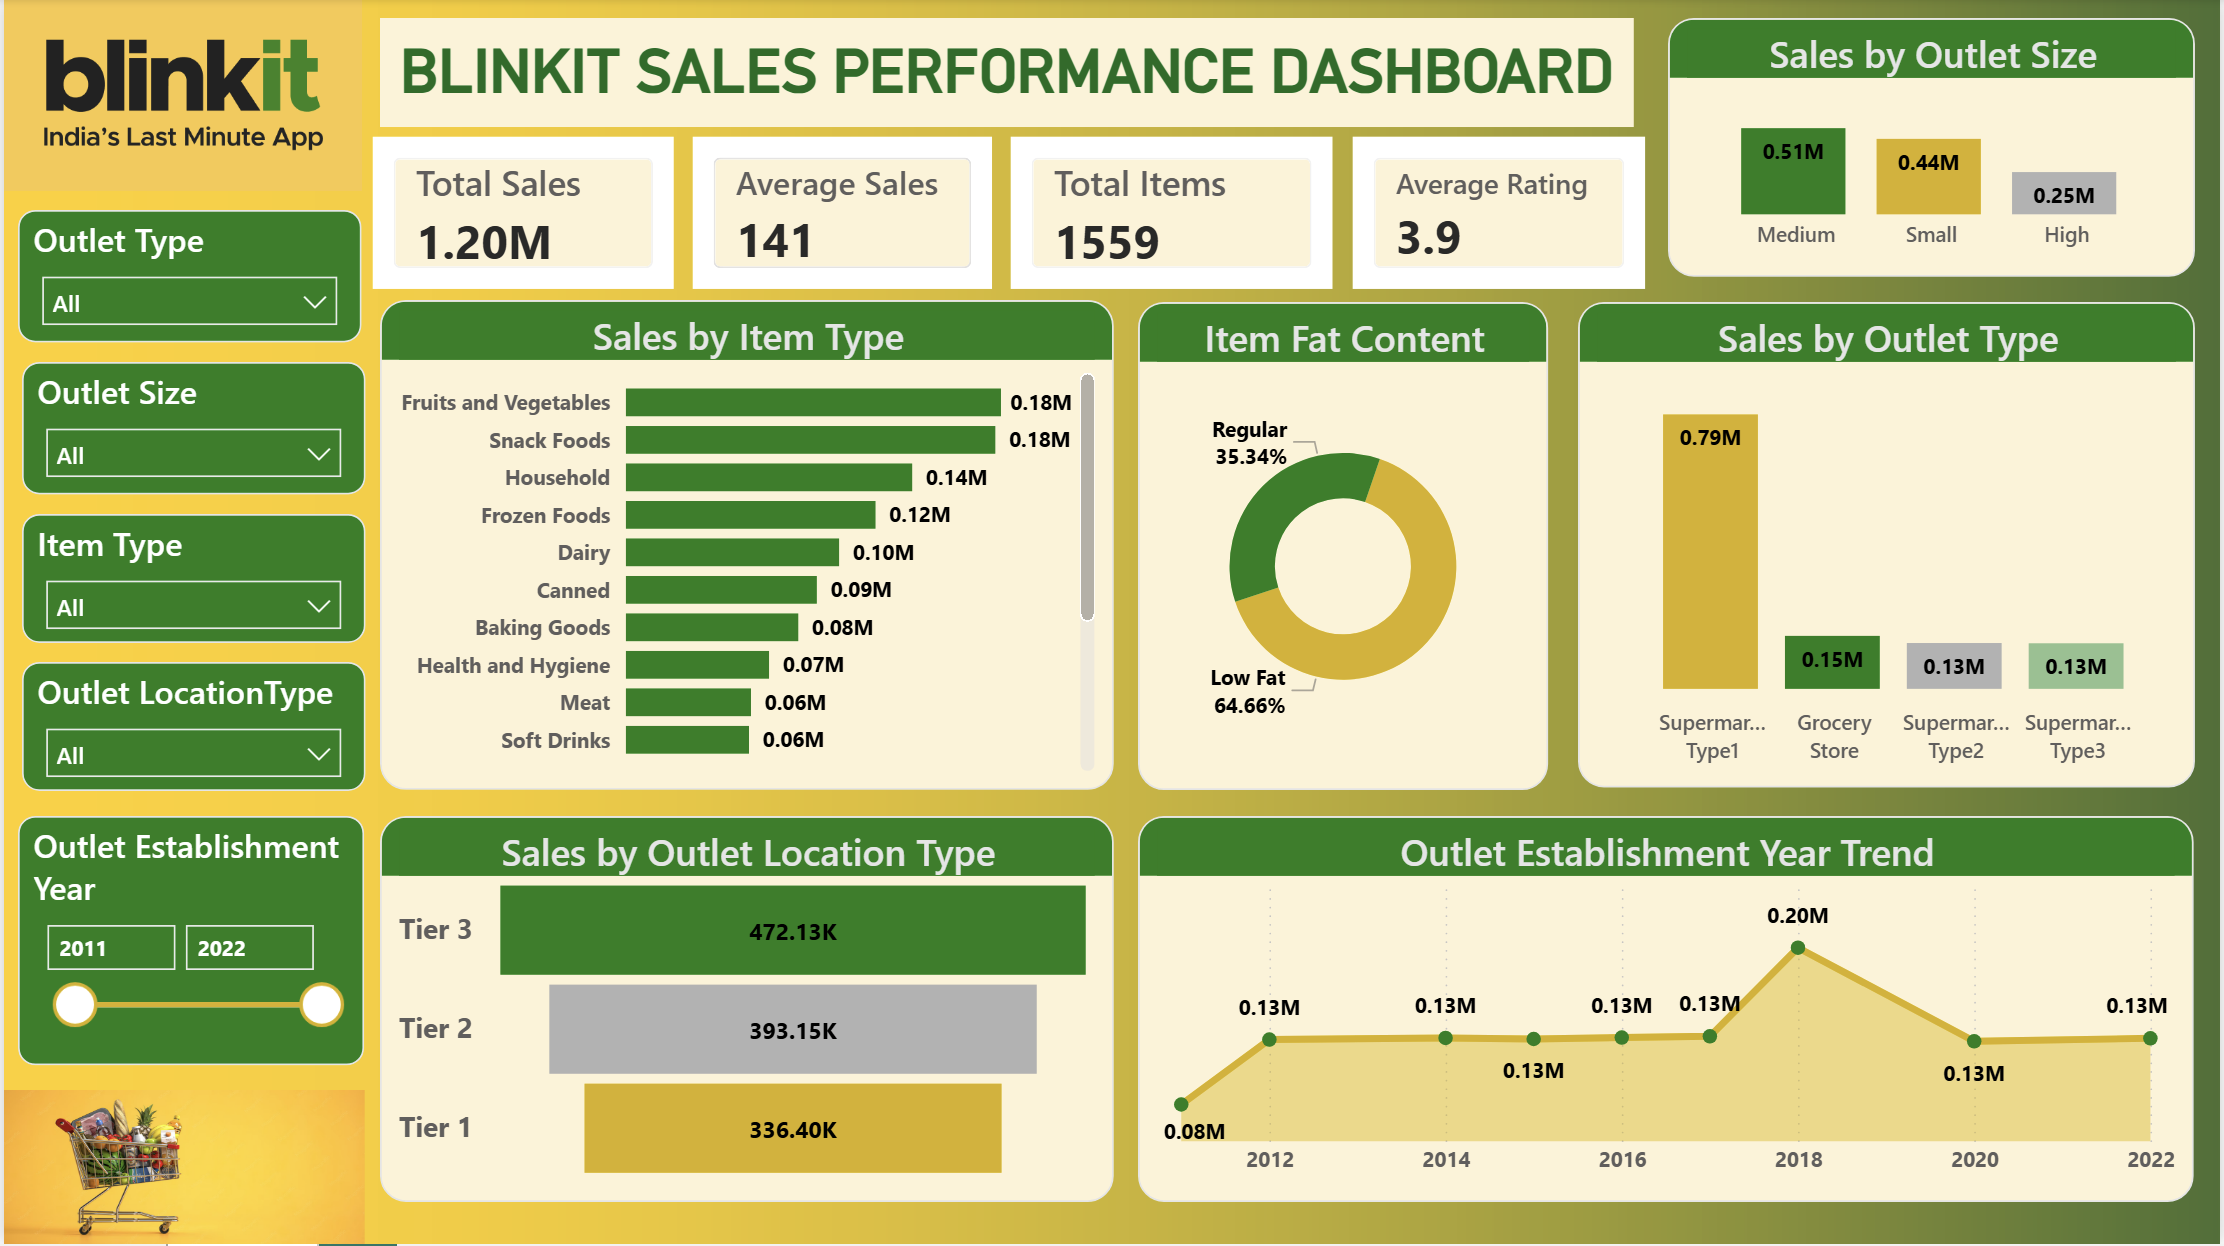

This screenshot's page, from the dashboard's own definition file:
{"tool":"powerbi","page":{"name":"Page 1","canvas":[1280,720],"ordinal":0},"visuals":[{"type":"cardVisual","fields":{"Data":["Table1.total_sales"]},"box":[208.5,74.6,184.8,98.3],"z":0},{"type":"cardVisual","fields":{"Data":["Table1.avg_sales"]},"box":[393.3,74.6,183.1,98.3],"z":1000},{"type":"cardVisual","fields":{"Data":["Table1.avg_rating"]},"box":[773.9,74.7,179,98.7],"z":2000},{"type":"cardVisual","fields":{"Data":["Table1.total_items"]},"box":[576.4,74.6,196.7,98.3],"z":3000},{"type":"clusteredBarChart","title":"Sales by Item Type","fields":{"Category":["Table1.Item Type"],"Y":["Sum(Table1.Sales)"]},"box":[217,174.6,423.8,283.1],"z":4000},{"type":"donutChart","title":"Item Fat Content ","fields":{"Category":["Table1.Item Fat Content"],"Y":["Table1.Total Items"]},"box":[655.5,176.2,236.8,281.9],"z":5000},{"type":"clusteredColumnChart","title":"Sales by Outlet Type","fields":{"Y":["Sum(Table1.Sales)"],"Category":["Table1.Outlet Type"]},"box":[909.3,176.2,356.7,280.5],"z":6000},{"type":"columnChart","title":"Sales by Outlet Size","fields":{"Y":["Sum(Table1.Sales)"],"Category":["Table1.Outlet Size"]},"box":[961.4,11.3,304.5,149.4],"z":7000},{"type":"funnel","title":"Sales by Outlet Location Type","fields":{"Y":["Sum(Table1.Sales)"],"Category":["Table1.Outlet Location Type"]},"box":[217,472.2,423.8,222.9],"z":8000},{"type":"lineChart","title":"Outlet Establishment Year Trend","fields":{"Y":["Sum(Table1.Sales)"],"Category":["Table1.Outlet Establishment Year"]},"box":[655.5,472.2,610,222.9],"z":9000},{"type":"textbox","title":"BLINKIT SALES PERFORMANCE DASHBOARD","box":[217,11.7,724.4,63.1],"z":10000},{"type":"slicer","title":"Item Type","fields":{"Values":["Table1.Item Type"]},"box":[10.2,298.4,198.4,74.6],"z":11000},{"type":"image","box":[0,0,206.8,111.4],"z":12000},{"type":"image","box":[0,630.7,208.5,89.9],"z":13000},{"type":"slicer","title":"Outlet Type","fields":{"Values":["Table1.Outlet Type"]},"box":[8.5,122.1,198.4,76.3],"z":14000},{"type":"slicer","title":"Outlet Size","fields":{"Values":["Table1.Outlet Type","Table1.Outlet Size"]},"box":[10.2,210.2,198.4,76.3],"z":15000},{"type":"slicer","title":"Outlet LocationType","fields":{"Values":["Table1.Item Type","Table1.Outlet Location Type"]},"box":[10.2,383.2,198.4,74.6],"z":16000},{"type":"slicer","title":"Outlet Establishment Year","fields":{"Values":["Table1.Outlet Establishment Year"]},"box":[8.5,473,200.1,144.1],"z":17000}]}

Visuals, with their boxes in screenshot pixels (x1, y1, x2, y2), scaled from the page's 1280x720 canvas onto the 2224x1246 screenshot:
cardVisual - Table1.total_sales: <bbox>362, 129, 683, 299</bbox>
cardVisual - Table1.avg_sales: <bbox>683, 129, 1001, 299</bbox>
cardVisual - Table1.avg_rating: <bbox>1345, 129, 1656, 300</bbox>
cardVisual - Table1.total_items: <bbox>1001, 129, 1343, 299</bbox>
"Sales by Item Type" clusteredBarChart: <bbox>377, 302, 1113, 792</bbox>
"Item Fat Content " donutChart: <bbox>1139, 305, 1550, 793</bbox>
"Sales by Outlet Type" clusteredColumnChart: <bbox>1580, 305, 2200, 790</bbox>
"Sales by Outlet Size" columnChart: <bbox>1670, 20, 2200, 278</bbox>
"Sales by Outlet Location Type" funnel: <bbox>377, 817, 1113, 1203</bbox>
"Outlet Establishment Year Trend" lineChart: <bbox>1139, 817, 2199, 1203</bbox>
"BLINKIT SALES PERFORMANCE DASHBOARD" textbox: <bbox>377, 20, 1636, 129</bbox>
"Item Type" slicer: <bbox>18, 516, 362, 645</bbox>
image: <bbox>0, 0, 359, 193</bbox>
image: <bbox>0, 1091, 362, 1245</bbox>
"Outlet Type" slicer: <bbox>15, 211, 359, 343</bbox>
"Outlet Size" slicer: <bbox>18, 364, 362, 496</bbox>
"Outlet LocationType" slicer: <bbox>18, 663, 362, 792</bbox>
"Outlet Establishment Year" slicer: <bbox>15, 819, 362, 1068</bbox>
